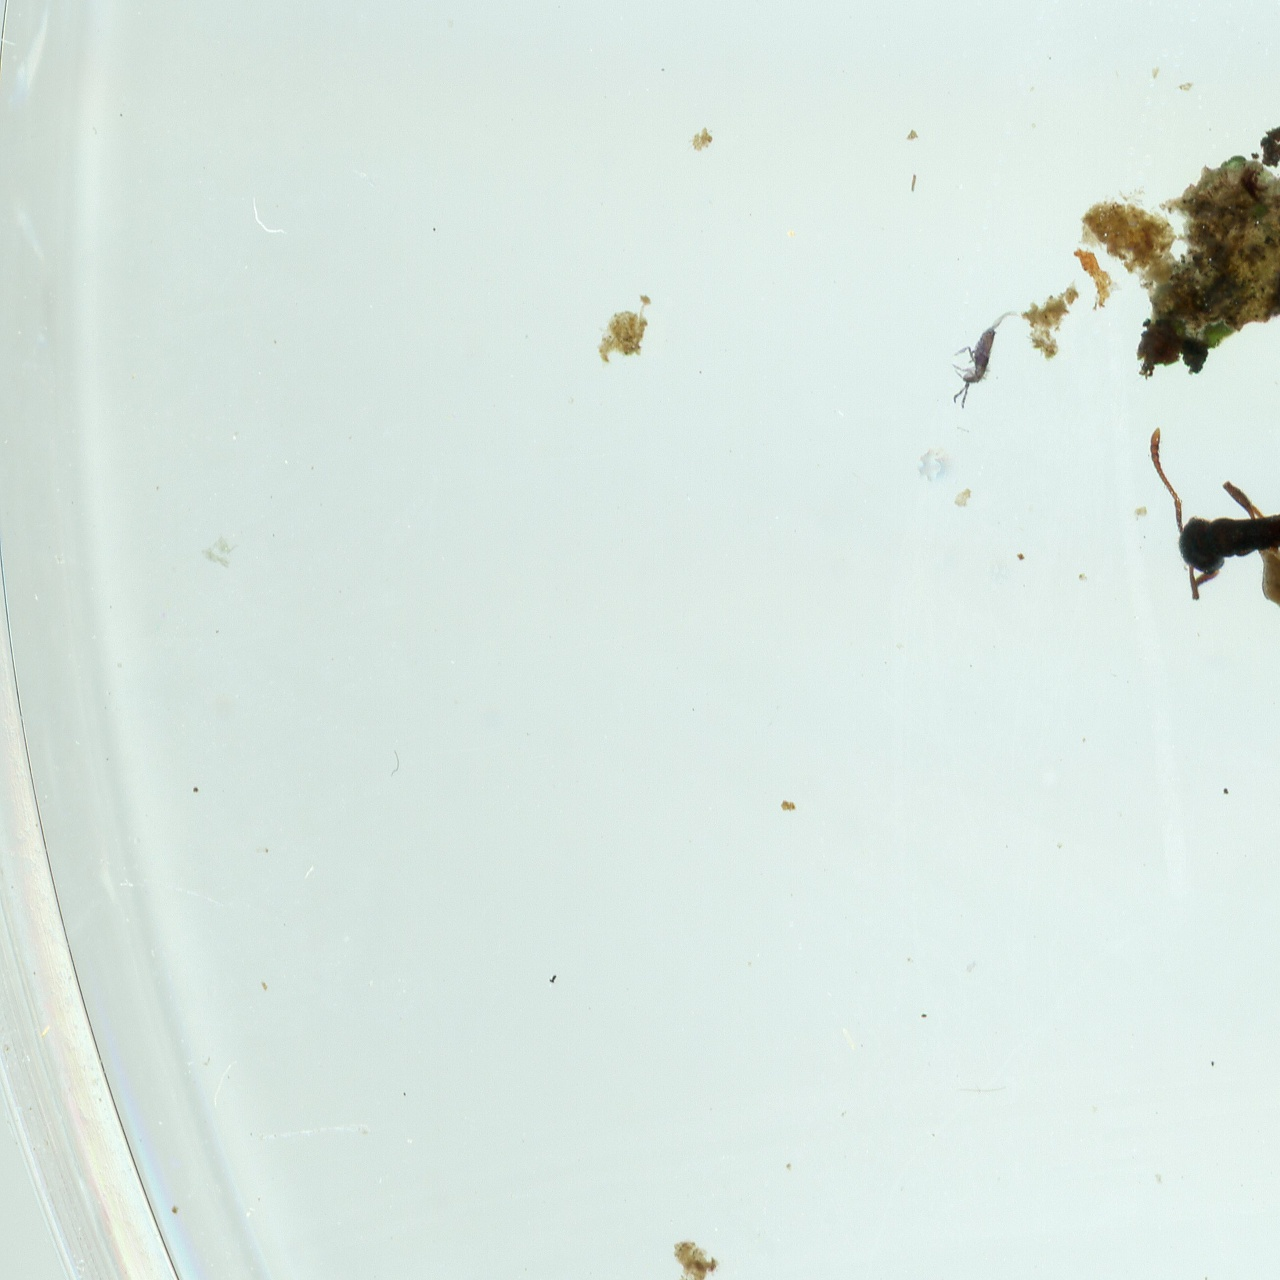arthropod: (1143, 422, 1280, 601), (944, 300, 1026, 416)
